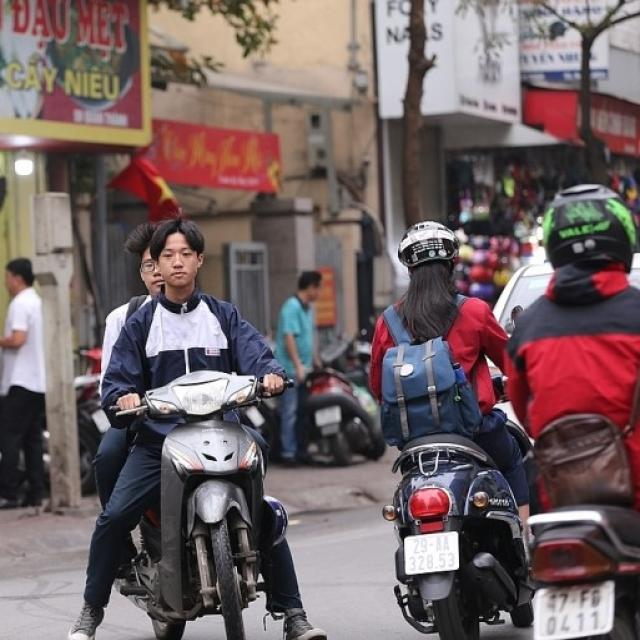Face and Hair: (146, 209, 210, 308)
